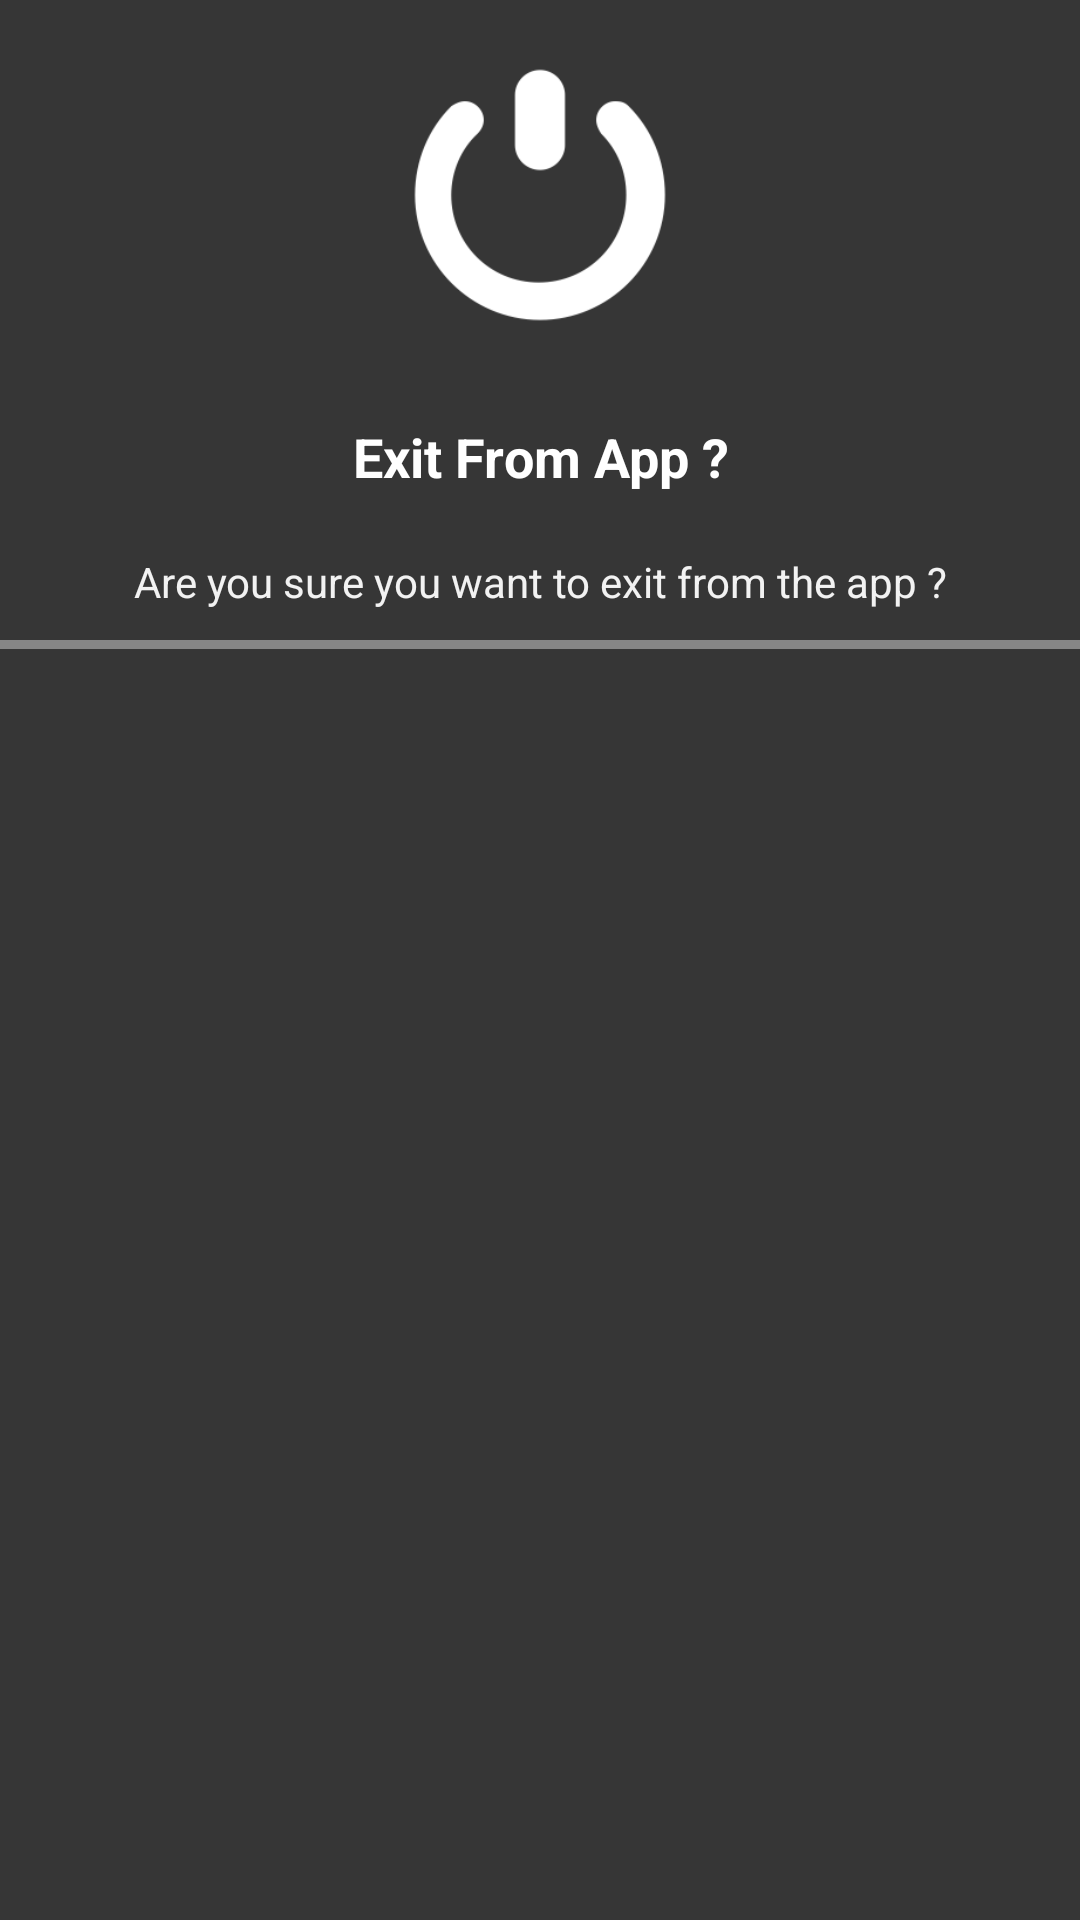

Named icons in this screenshot (1080w x 1920h) and their bounding boxes, (x1, y1, x2, y2):
if exit: (414, 69, 666, 321)
